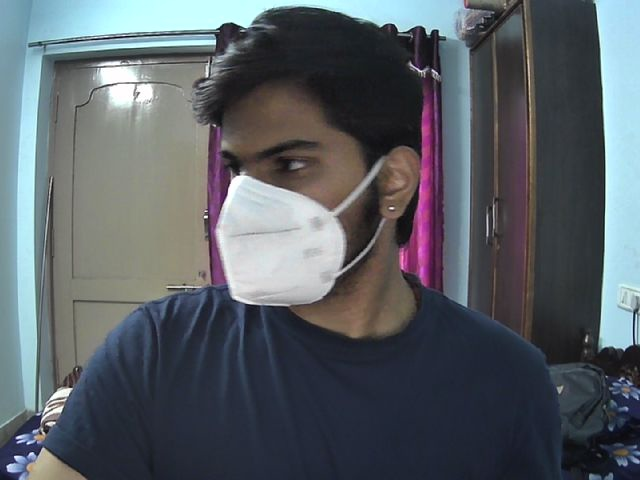Mask: (216, 179, 380, 307)
